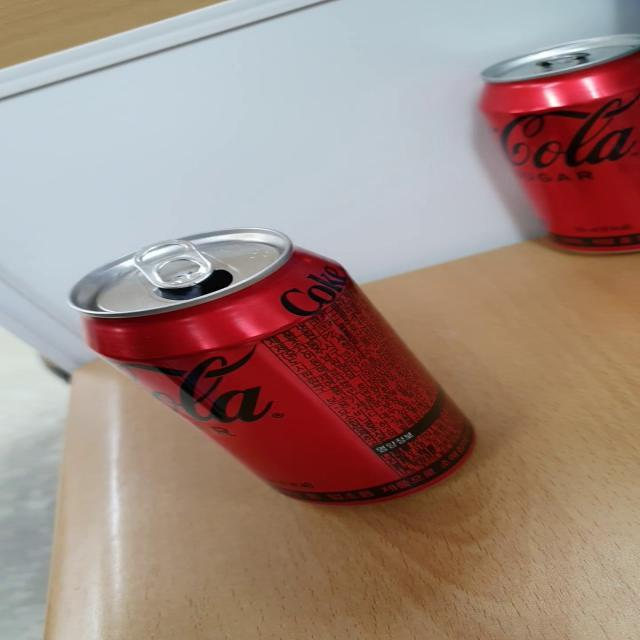coca-cola: (49, 224, 491, 516), (468, 28, 640, 264)
